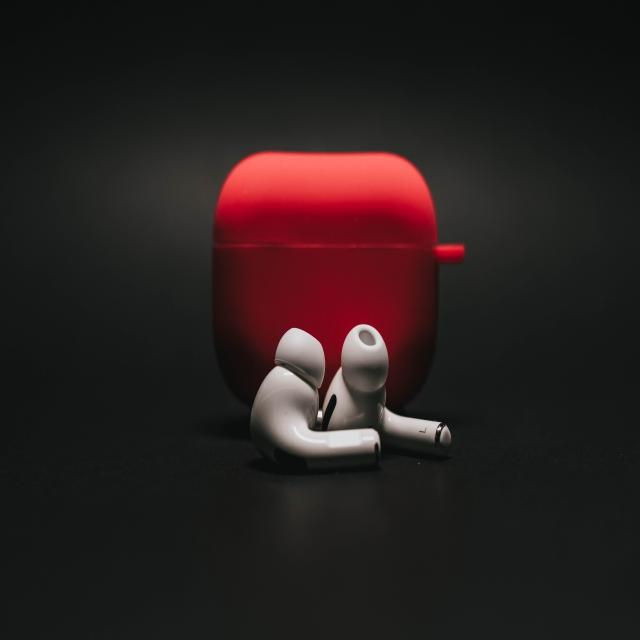airpods: (214, 147, 468, 474)
